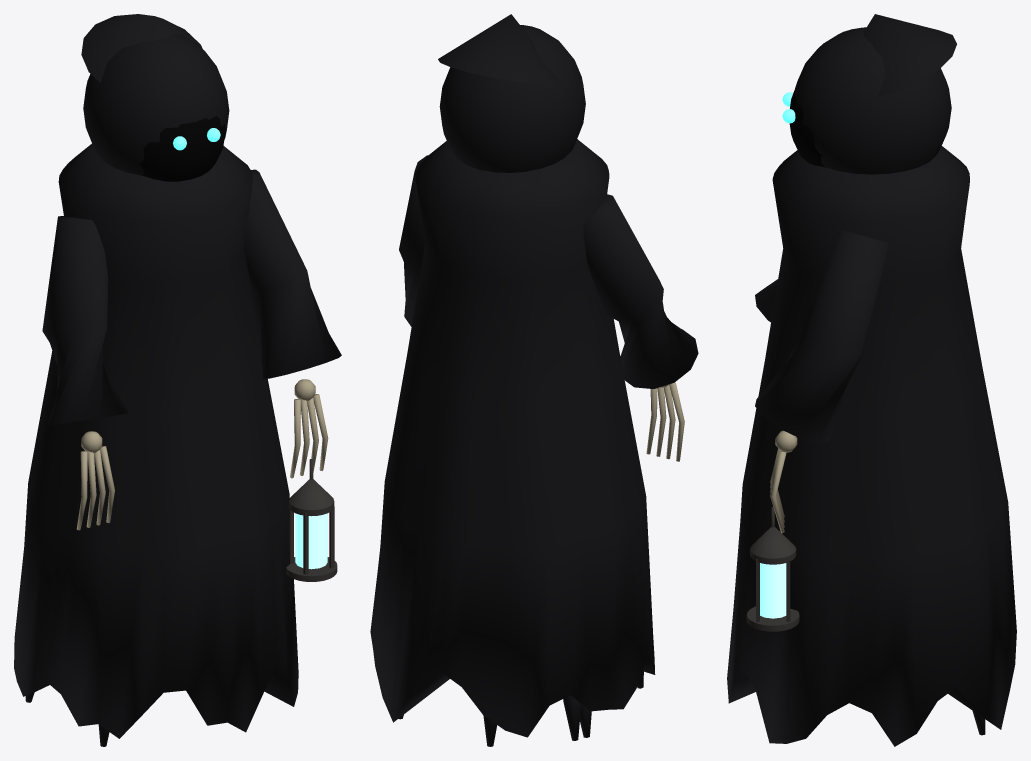
The model's file is wraith.glb.
3 views of the same model, side by side, from view 1: azimuth 30°, elevation 25°; view 2: azimuth 150°, elevation 25°; view 3: azimuth 270°, elevation 25° (orthographic).
Parts seen in each view (by area): view 1: float_mesh, head_mesh, arm_1_mesh, arm_0_mesh; view 2: float_mesh, head_mesh, arm_0_mesh, arm_1_mesh; view 3: float_mesh, head_mesh, arm_1_mesh, arm_0_mesh.
Boxes of the visible parts, box(x1,y1,x2,y2) form: float_mesh: box(14, 144, 298, 746); head_mesh: box(81, 14, 229, 181); arm_1_mesh: box(244, 169, 341, 581); arm_0_mesh: box(42, 216, 128, 530); float_mesh: box(370, 139, 655, 746); head_mesh: box(438, 14, 585, 172); arm_0_mesh: box(583, 194, 698, 461); arm_1_mesh: box(399, 155, 427, 326); float_mesh: box(727, 146, 1016, 746); head_mesh: box(782, 14, 956, 174); arm_1_mesh: box(746, 229, 889, 631); arm_0_mesh: box(755, 279, 777, 322).
Size of the model in its own units: 1.02 by 2.32 by 0.88.
